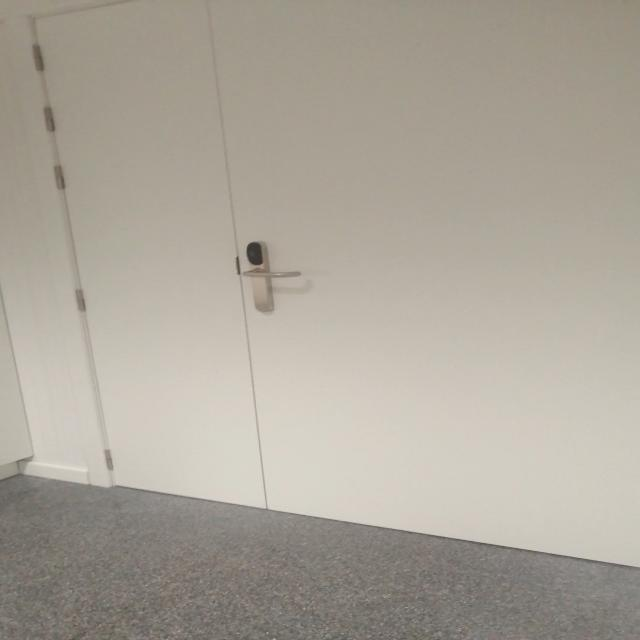door_handle: (239, 269, 307, 280)
